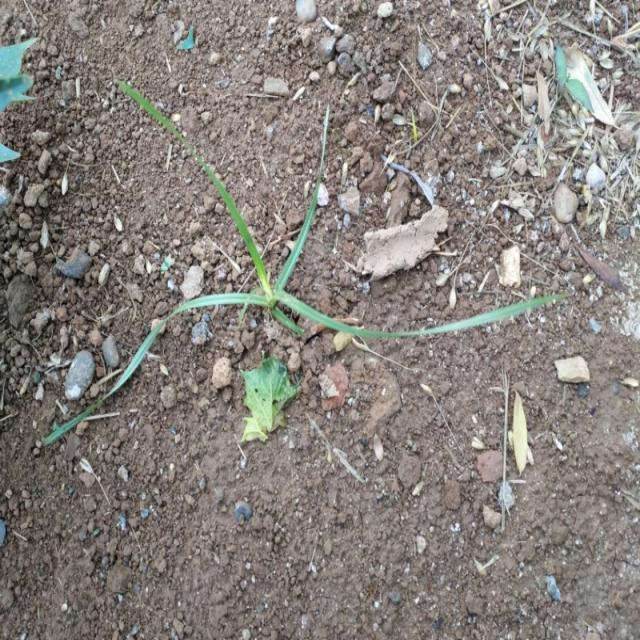sedge: (6, 93, 518, 399)
